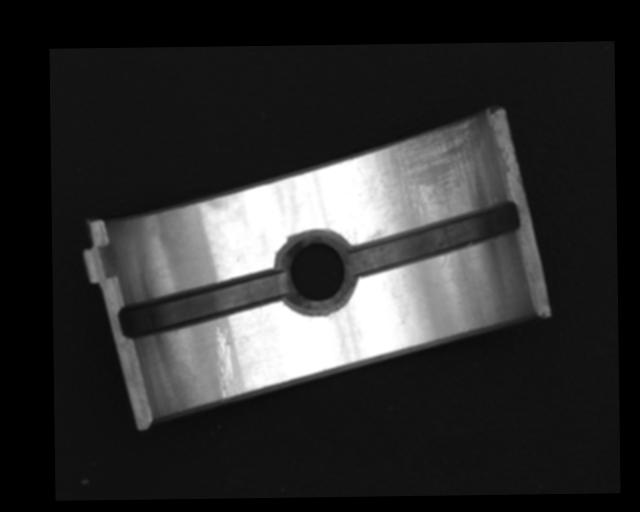gap: (346, 204, 520, 277), (116, 272, 291, 339)
hole: (274, 226, 358, 318)
nick: (216, 324, 233, 402)
scratch: (363, 117, 486, 241)
